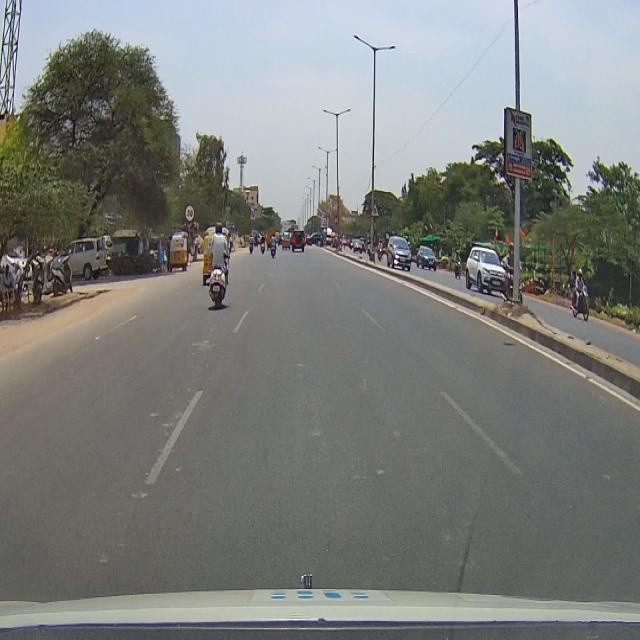motorcycle ahead at: (205, 255, 234, 311)
